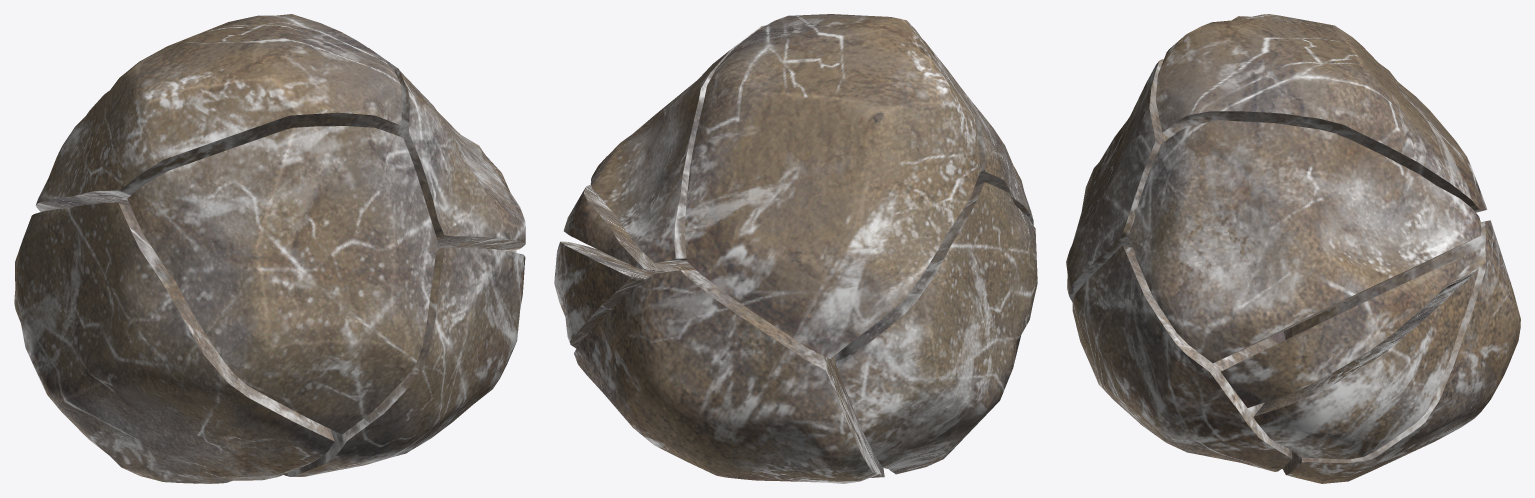
Rendered from SM_MetalNode_2b_Pieces.fbx.
The picture shows the model from 3 angles, left to right: view 1: azimuth 30°, elevation 25°; view 2: azimuth 150°, elevation 25°; view 3: azimuth 270°, elevation 25°; orthographic projection. The views are drawn at different scales.
Parts seen in each view (by area): view 1: SM_MetalNode_2b_Pieces_cell_2, SM_MetalNode_2b_Pieces_cell_1, SM_MetalNode_2b_Pieces_cell_3, SM_MetalNode_2b_Pieces_cell_5, SM_MetalNode_2b_Pieces_cell_6; view 2: SM_MetalNode_2b_Pieces_cell_3, SM_MetalNode_2b_Pieces_cell_4, SM_MetalNode_2b_Pieces_cell_1, SM_MetalNode_2b_Pieces_cell_6, SM_MetalNode_2b_Pieces_cell_8, SM_MetalNode_2b_Pieces_cell_7, SM_MetalNode_2b_Pieces_cell_2; view 3: SM_MetalNode_2b_Pieces_cell_6, SM_MetalNode_2b_Pieces_cell_3, SM_MetalNode_2b_Pieces_cell_5, SM_MetalNode_2b_Pieces_cell_8, SM_MetalNode_2b_Pieces_cell_4, SM_MetalNode_2b_Pieces_cell_7, SM_MetalNode_2b_Pieces_cell_2.
Part boxes in pixels (x1=…): SM_MetalNode_2b_Pieces_cell_2: x1=127, y1=126, x2=437, y2=434; SM_MetalNode_2b_Pieces_cell_1: x1=14, y1=202, x2=334, y2=483; SM_MetalNode_2b_Pieces_cell_3: x1=35, y1=14, x2=402, y2=211; SM_MetalNode_2b_Pieces_cell_5: x1=284, y1=247, x2=525, y2=476; SM_MetalNode_2b_Pieces_cell_6: x1=369, y1=48, x2=525, y2=250; SM_MetalNode_2b_Pieces_cell_3: x1=685, y1=14, x2=979, y2=358; SM_MetalNode_2b_Pieces_cell_4: x1=574, y1=270, x2=884, y2=483; SM_MetalNode_2b_Pieces_cell_1: x1=834, y1=182, x2=1037, y2=474; SM_MetalNode_2b_Pieces_cell_6: x1=590, y1=25, x2=764, y2=267; SM_MetalNode_2b_Pieces_cell_8: x1=554, y1=241, x2=659, y2=348; SM_MetalNode_2b_Pieces_cell_7: x1=563, y1=184, x2=695, y2=272; SM_MetalNode_2b_Pieces_cell_2: x1=922, y1=39, x2=1033, y2=224; SM_MetalNode_2b_Pieces_cell_6: x1=1127, y1=120, x2=1481, y2=362; SM_MetalNode_2b_Pieces_cell_3: x1=1156, y1=14, x2=1487, y2=212; SM_MetalNode_2b_Pieces_cell_5: x1=1072, y1=245, x2=1292, y2=471; SM_MetalNode_2b_Pieces_cell_8: x1=1253, y1=268, x2=1478, y2=459; SM_MetalNode_2b_Pieces_cell_4: x1=1282, y1=220, x2=1520, y2=483; SM_MetalNode_2b_Pieces_cell_7: x1=1221, y1=249, x2=1480, y2=407; SM_MetalNode_2b_Pieces_cell_2: x1=1066, y1=59, x2=1168, y2=302.
Size of the model in its own units: 0.8634 by 0.8015 by 0.8324.
